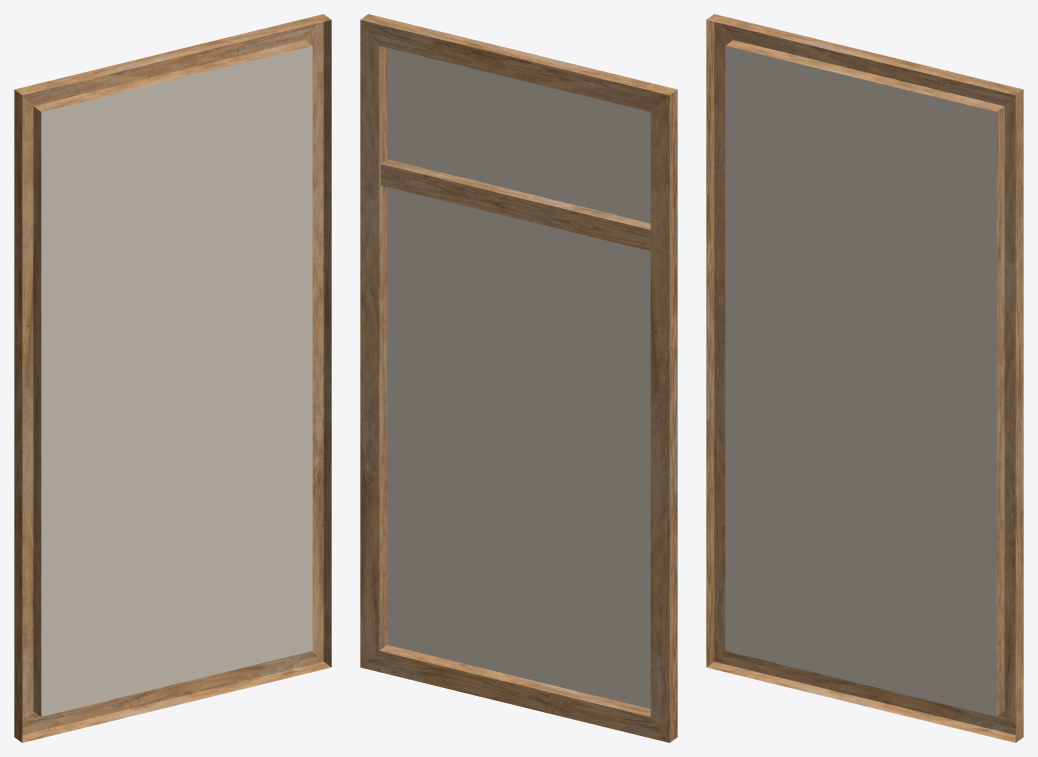
The model's file is NNJ0510001.fbx.
The picture shows the model from 3 angles, left to right: view 1: azimuth 30°, elevation 25°; view 2: azimuth 150°, elevation 25°; view 3: azimuth 330°, elevation 25°; orthographic projection.
Visible parts, largest first — view 1: smNNJ0510001; view 2: smNNJ0510001; view 3: smNNJ0510001.
Part boxes in pixels (x1,y1,x2,y2): smNNJ0510001: (14, 14, 331, 742); smNNJ0510001: (360, 14, 677, 742); smNNJ0510001: (706, 14, 1023, 742).
Size of the model in its own units: 170 by 341 by 7.6.
Materials: 1 (1 with a texture image).
